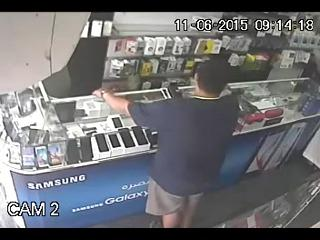Normal: (143, 62, 143, 62)
shoplifting: (92, 62, 241, 227)
